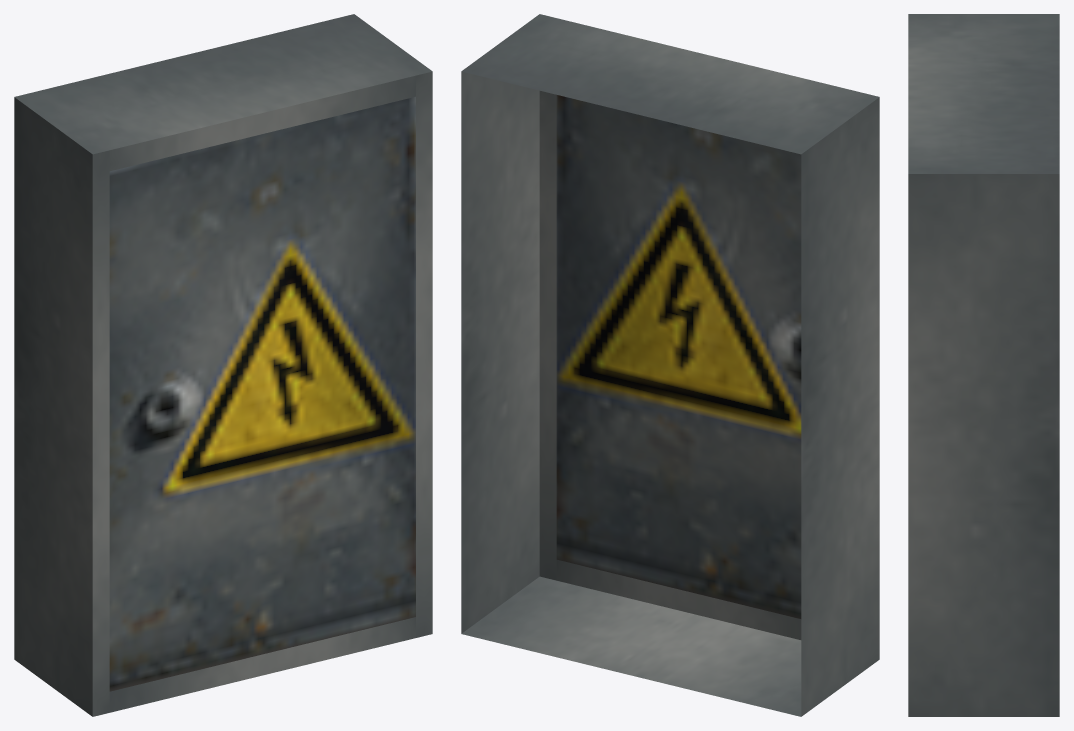
Rendered from SM_PROP_ELETRIC_BOX_01.fbx.
3 renders of one model, left to right at view 1: azimuth 30°, elevation 25°; view 2: azimuth 150°, elevation 25°; view 3: azimuth 270°, elevation 25°, orthographic. The views are drawn at different scales.
Visible parts, largest first — view 1: SM_PROP_ELETRIC_BOX_01; view 2: SM_PROP_ELETRIC_BOX_01; view 3: SM_PROP_ELETRIC_BOX_01.
Boxes of the visible parts, x1,y1,x2,y2 form: SM_PROP_ELETRIC_BOX_01: [14, 14, 432, 716]; SM_PROP_ELETRIC_BOX_01: [461, 14, 879, 716]; SM_PROP_ELETRIC_BOX_01: [908, 14, 1059, 716].
Size of the model in its own units: 0.5 by 0.7903 by 0.2.
